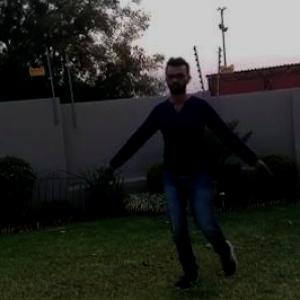land: (127, 73, 260, 256)
